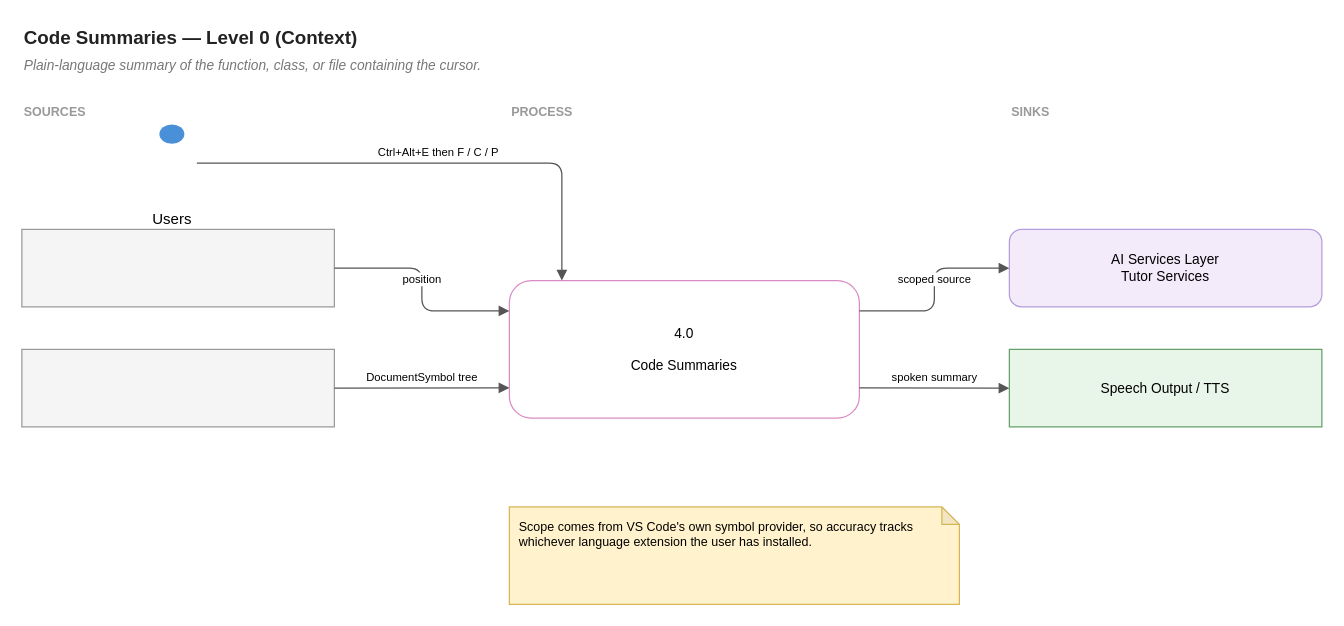
Some shapes in this 1344 by 626 pixel diagram are drawn without their labels. The shapes that lost their labels are listed below. From the top down, each one's centre as x and y in pixels, then its label:
At (x=177, y=267): "Cursor position (VS Code Environment)".
At (x=177, y=387): "Document symbols (language extension)".
